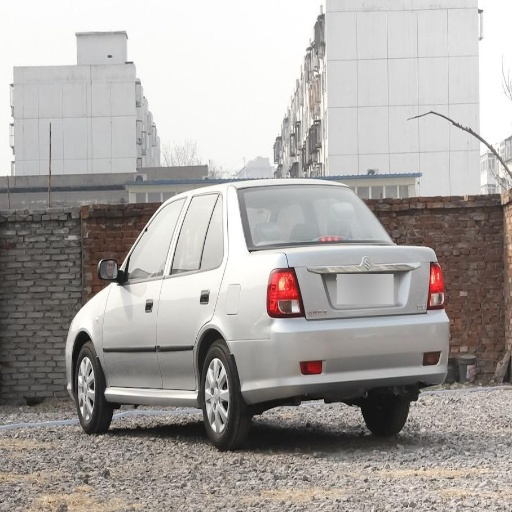back_bumper: (236, 308, 449, 405)
back_glass: (239, 185, 387, 249)
back_left_door: (157, 190, 226, 387)
back_left_light: (267, 268, 303, 317)
